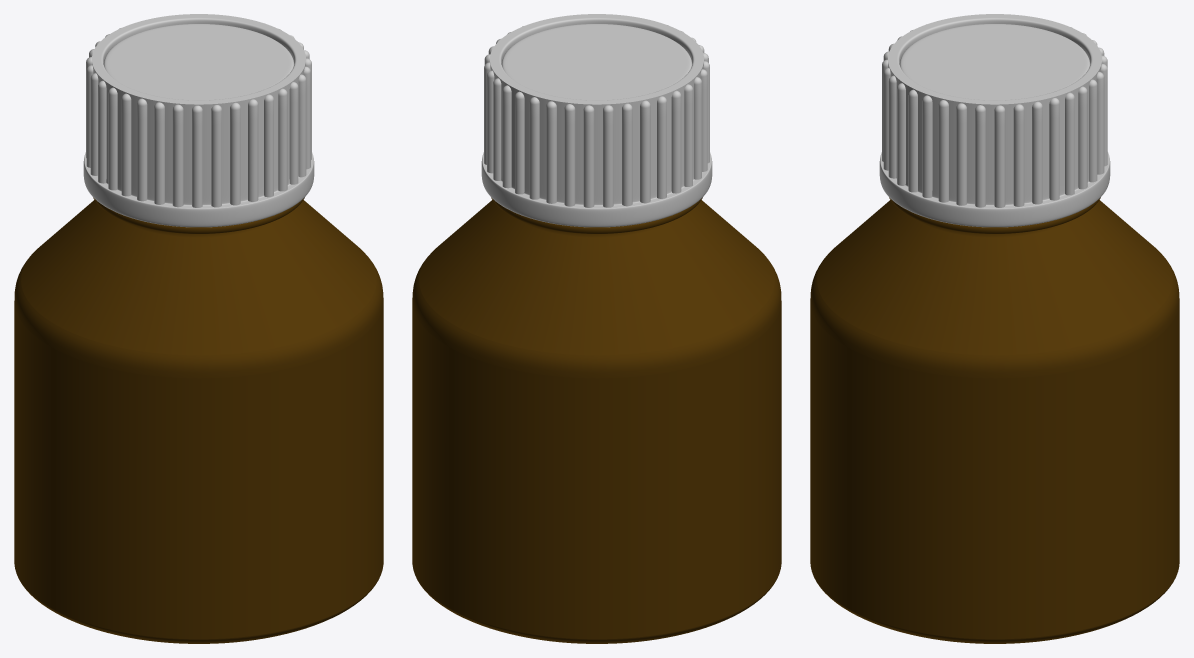
The model's file is drugv3.obj.
The picture shows the model from 3 angles, left to right: view 1: azimuth 30°, elevation 25°; view 2: azimuth 150°, elevation 25°; view 3: azimuth 270°, elevation 25°; orthographic projection.
Parts seen in each view (by area): view 1: 0, 1; view 2: 0, 1; view 3: 0, 1.
Part boxes in pixels (x1,y1,x2,y2): 0: (14, 197, 383, 643); 1: (83, 14, 314, 227); 0: (412, 197, 781, 643); 1: (481, 14, 712, 227); 0: (810, 197, 1179, 643); 1: (879, 14, 1110, 227).
Size of the model in its own units: 175 by 269 by 175.
